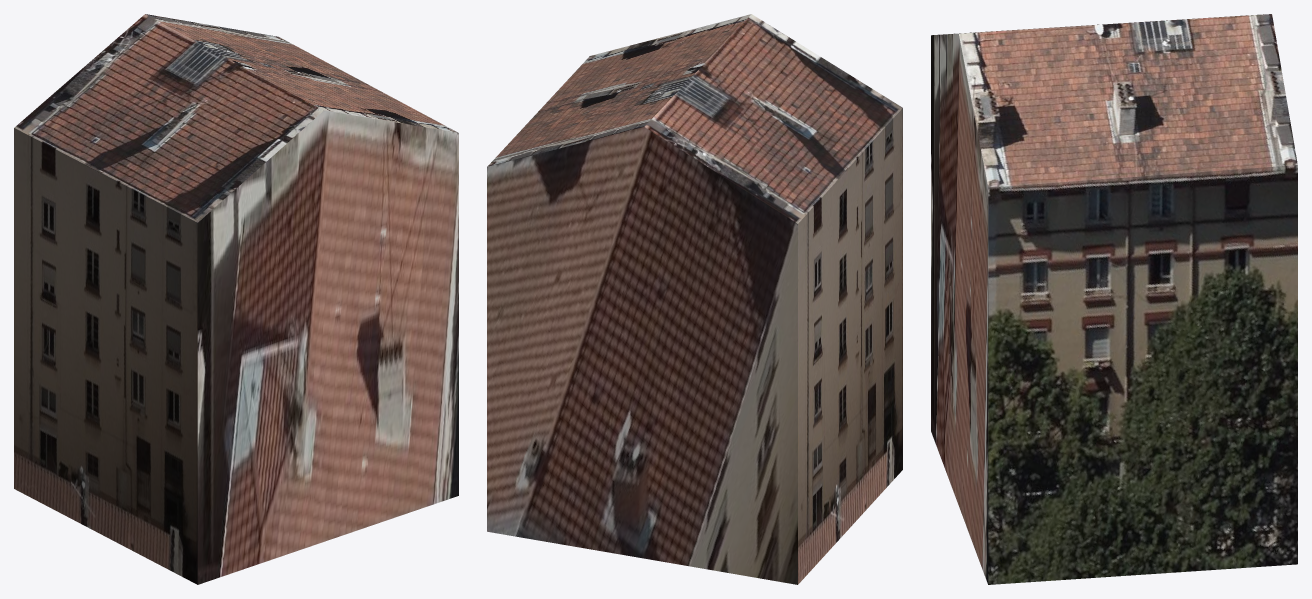
3 renders of one model, left to right at view 1: azimuth 30°, elevation 25°; view 2: azimuth 150°, elevation 25°; view 3: azimuth 270°, elevation 25°, orthographic. The views are drawn at different scales.
Visible parts, largest first — view 1: Z_UP; view 2: Z_UP; view 3: Z_UP.
Boxes of the visible parts, x1=… form: Z_UP: x1=14, y1=14, x2=458, y2=584; Z_UP: x1=487, y1=14, x2=902, y2=584; Z_UP: x1=931, y1=14, x2=1297, y2=584.
Size of the model in its own units: 18.19 by 23 by 16.17.
Materials: 2 (1 with a texture image).
